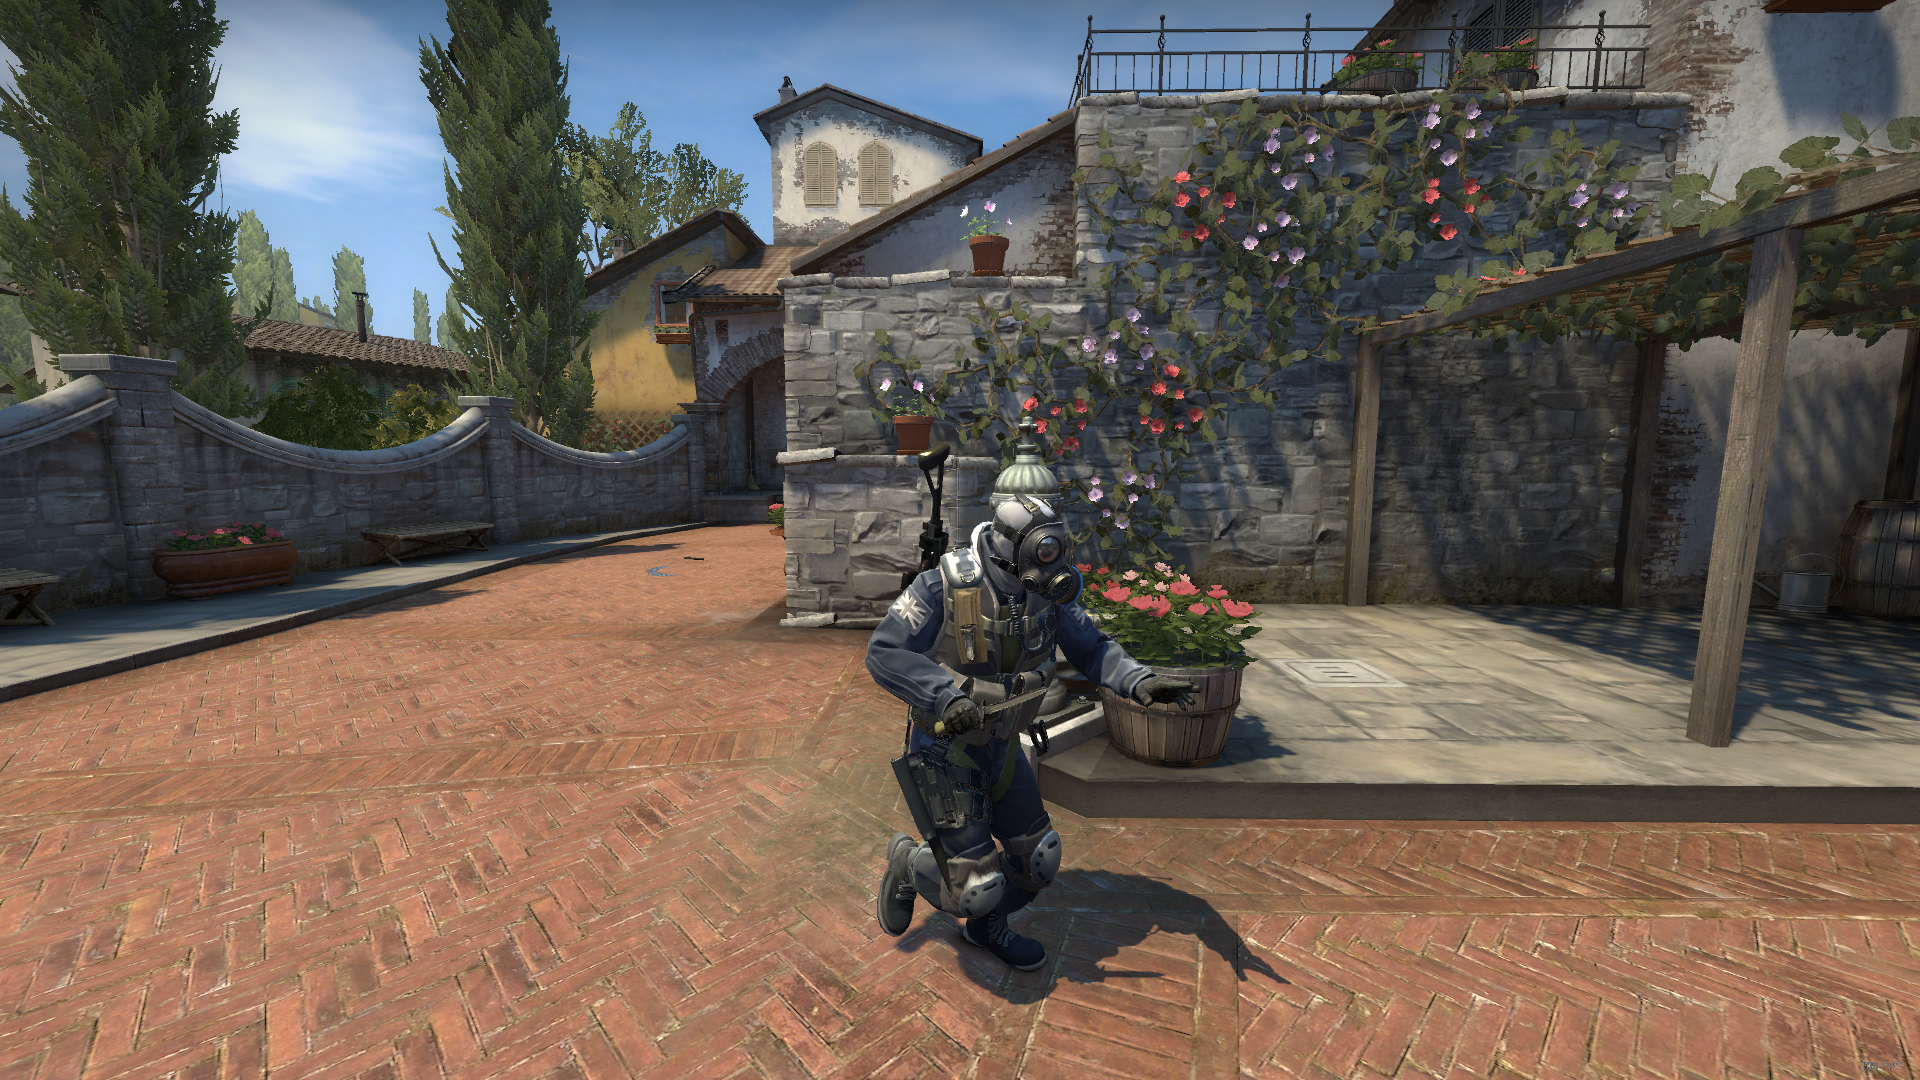ct: (858, 488, 1200, 1011)
